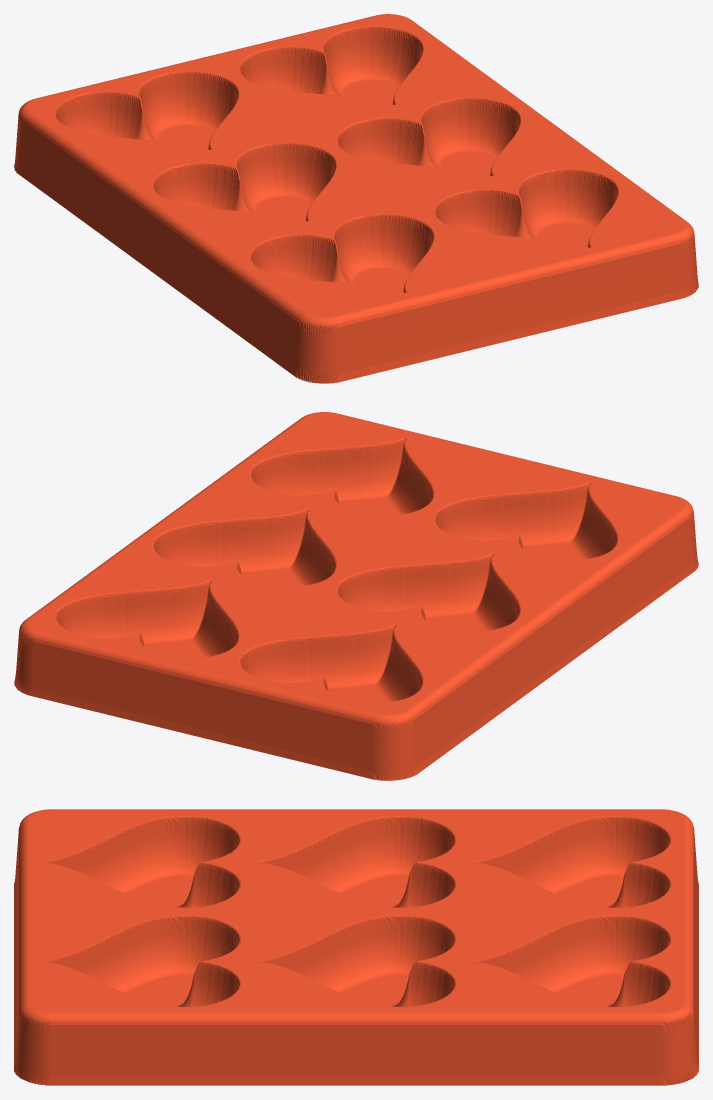
The model's file is mold.glb.
The picture shows the model from 3 angles, top to bottom: view 1: azimuth 30°, elevation 25°; view 2: azimuth 150°, elevation 25°; view 3: azimuth 270°, elevation 25°; orthographic projection. The views are drawn at different scales.
Parts seen in each view (by area): view 1: geometry_0; view 2: geometry_0; view 3: geometry_0.
Boxes of the visible parts, left/top/right/bottom form: geometry_0: left=14, top=14, right=698, bottom=383; geometry_0: left=14, top=412, right=698, bottom=780; geometry_0: left=14, top=809, right=698, bottom=1085.
Size of the model in its own units: 0.1211 by 0.0175 by 0.163.
